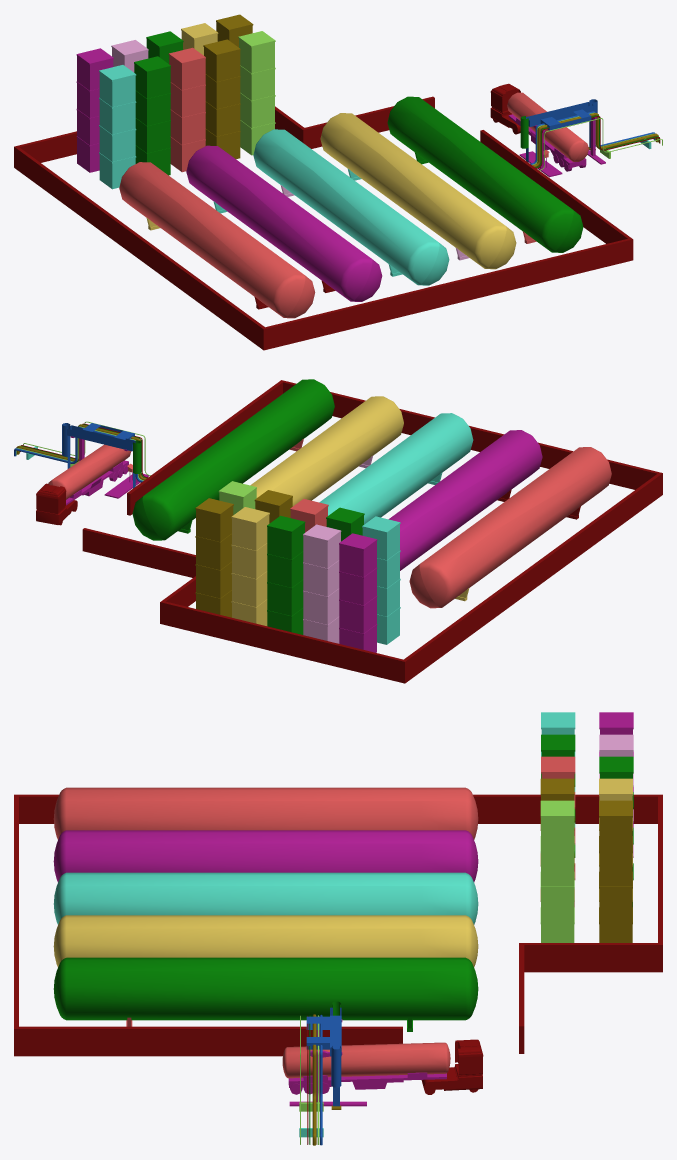
3 views of the same model, one above another, from view 1: azimuth 30°, elevation 25°; view 2: azimuth 150°, elevation 25°; view 3: azimuth 270°, elevation 25° (orthographic). The views are drawn at different scales.
Visible parts, largest first — view 1: Group_001, Composant__1_003, Composant__1_004, Composant__1_002, Composant__1_001, Composant__1_005, Composant__3_004, Composant__3_003, Composant__3_002, Composant__3_005, Composant__3_001, Composant__3_007 (+10 smaller); view 2: Group_001, Composant__1_004, Composant__1_001, Composant__1_005, Composant__1_003, Composant__1_002, Composant__3_007, Composant__3_006, Composant__3_008, Composant__3_010, Composant__3_009, Composant__3_004 (+8 smaller); view 3: Composant__1_001, Group_001, Composant__1_004, Composant__1_003, Composant__1_005, Composant__1_002, Composant__3_001, Composant__3_010, Composant__6_001, Composant__4_001, Composant__5_001, Composant__3_003 (+7 smaller).
Part boxes in pixels (left/top/right/bottom): Group_001: left=14, top=96, right=633, bottom=350; Composant__1_003: left=253, top=129, right=449, bottom=285; Composant__1_004: left=119, top=162, right=315, bottom=318; Composant__1_002: left=320, top=113, right=516, bottom=269; Composant__1_001: left=387, top=96, right=583, bottom=252; Composant__1_005: left=186, top=145, right=382, bottom=301; Composant__3_004: left=99, top=65, right=136, bottom=189; Composant__3_003: left=168, top=47, right=205, bottom=172; Composant__3_002: left=203, top=39, right=240, bottom=159; Composant__3_005: left=134, top=56, right=170, bottom=175; Composant__3_001: left=238, top=31, right=275, bottom=155; Composant__3_007: left=76, top=48, right=113, bottom=172; Group_001: left=82, top=380, right=662, bottom=683; Composant__1_004: left=409, top=447, right=611, bottom=608; Composant__1_001: left=132, top=379, right=334, bottom=540; Composant__1_005: left=388, top=430, right=542, bottom=570; Composant__1_003: left=319, top=413, right=473, bottom=524; Composant__1_002: left=250, top=396, right=403, bottom=506; Composant__3_007: left=339, top=533, right=377, bottom=652; Composant__3_006: left=267, top=515, right=305, bottom=634; Composant__3_008: left=303, top=524, right=341, bottom=643; Composant__3_010: left=195, top=498, right=233, bottom=617; Composant__3_009: left=231, top=507, right=269, bottom=625; Composant__3_004: left=362, top=516, right=400, bottom=644; Composant__1_001: left=53, top=957, right=478, bottom=1020; Group_001: left=14, top=794, right=662, bottom=1056; Composant__1_004: left=53, top=787, right=478, bottom=839; Composant__1_003: left=53, top=872, right=478, bottom=924; Composant__1_005: left=53, top=830, right=478, bottom=882; Composant__1_002: left=53, top=915, right=478, bottom=967; Composant__3_001: left=540, top=800, right=574, bottom=942; Composant__3_010: left=599, top=800, right=632, bottom=942; Composant__6_001: left=282, top=1042, right=450, bottom=1078; Composant__4_001: left=421, top=1039, right=483, bottom=1094; Composant__5_001: left=288, top=1072, right=446, bottom=1094; Composant__3_003: left=541, top=756, right=575, bottom=906.
Bounding box in the file's own units: 2997 × 618 × 2540.
